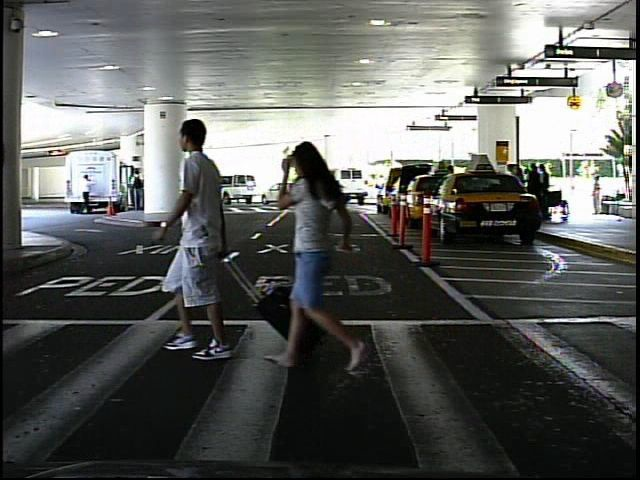person: (150, 100, 262, 366), (282, 133, 381, 380), (78, 171, 96, 221), (588, 172, 607, 218)
